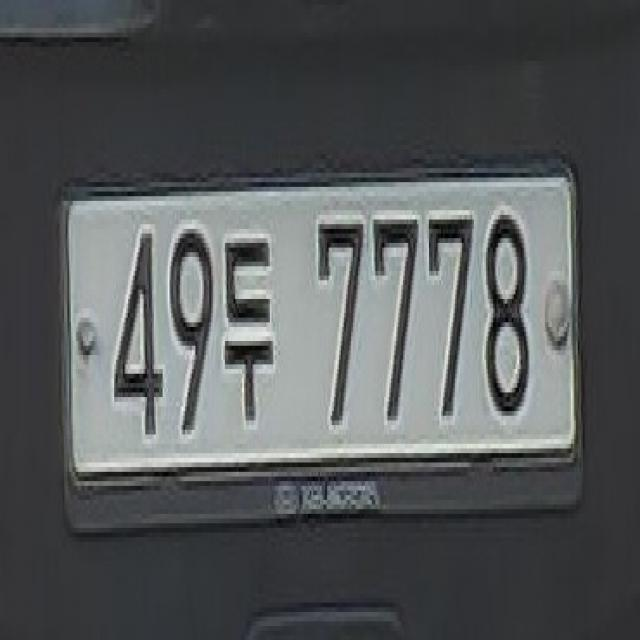4: (112, 212, 163, 452)
7: (369, 200, 421, 448), (316, 195, 366, 443), (426, 189, 474, 438)
8: (482, 188, 532, 440)
9: (167, 209, 216, 448)
du: (220, 218, 280, 447)
license_plate: (39, 140, 618, 552)
